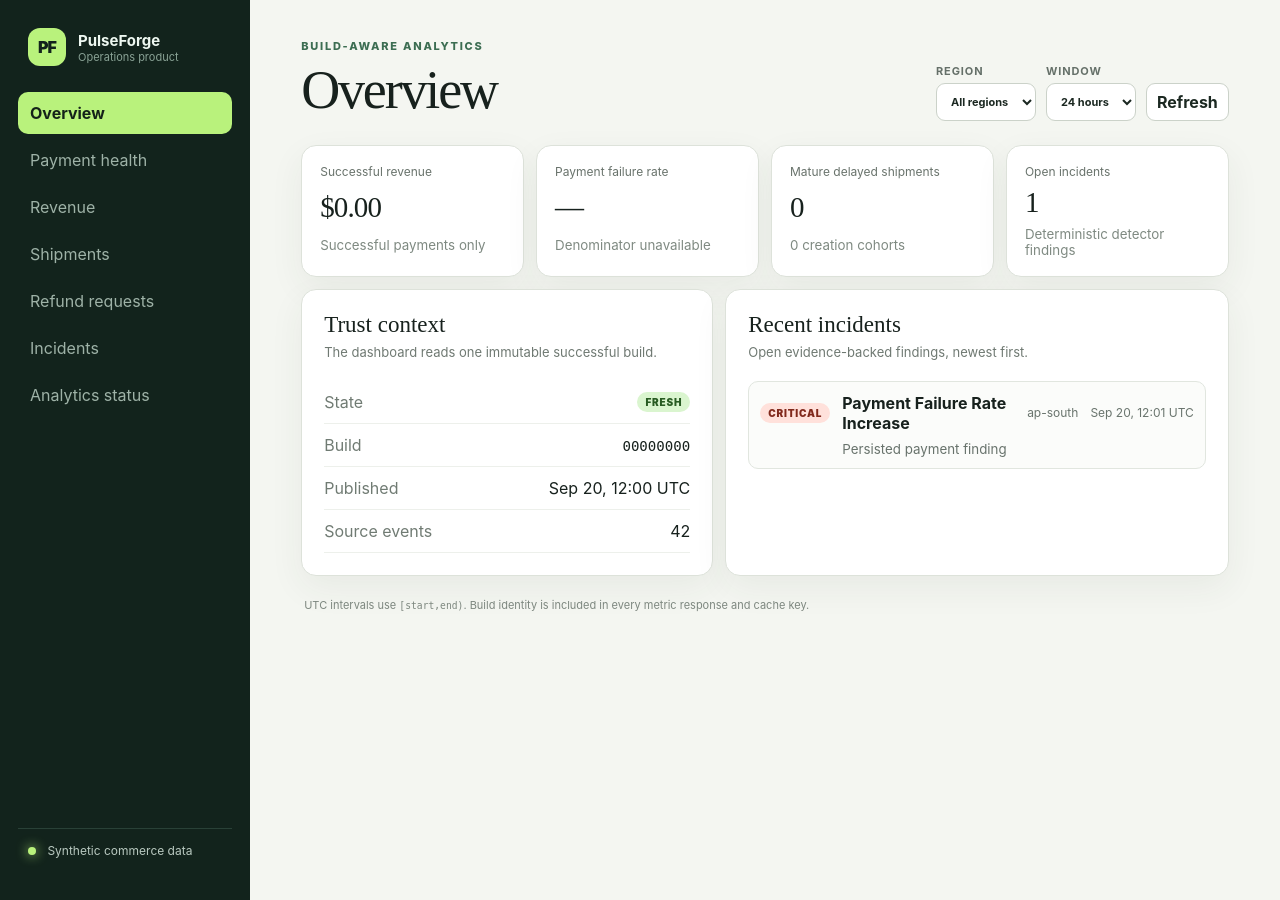
Test: operations dashboard › allows a pending explanation to be cancelled without showing an error
Click the button "payment failure rate increase". click: (795, 412)
box: [748,380,1206,468]
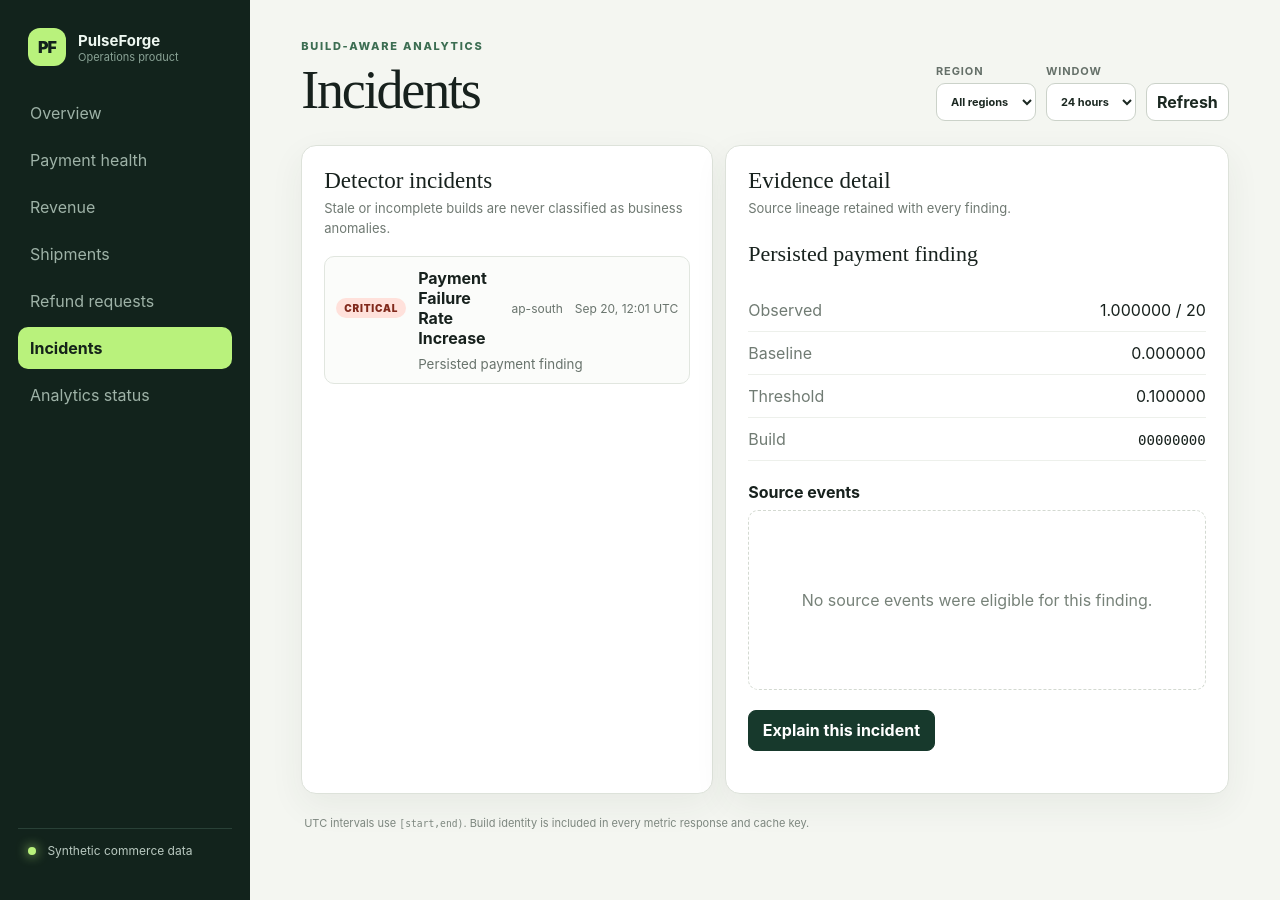
Click the button "Explain this incident". click: (841, 730)
box: [748,710,935,751]
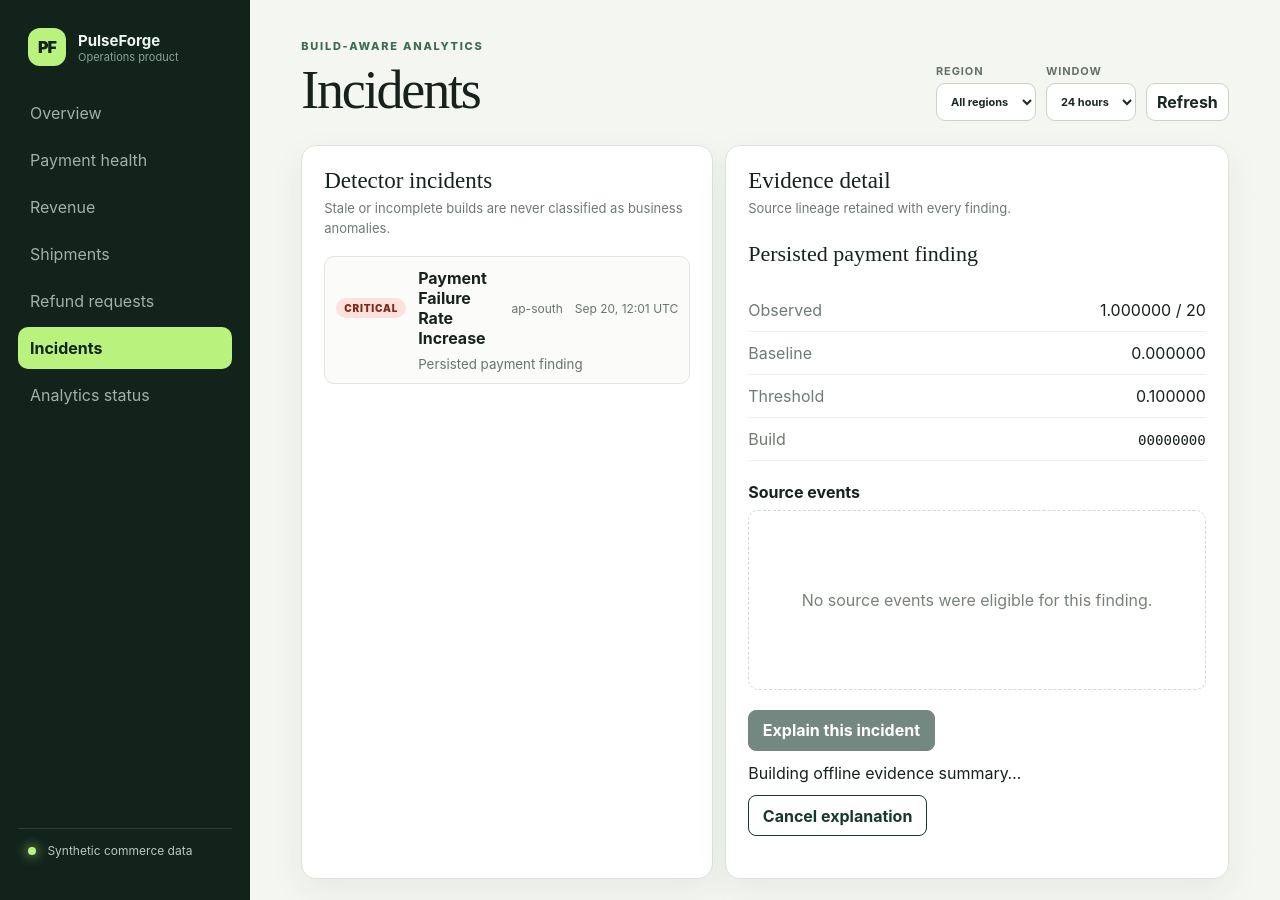
Result: the text "Building offline evidence summary…" is shown at [748,763,1021,783]
Click the button "Cancel explanation". click: (838, 816)
box: [748,795,927,836]
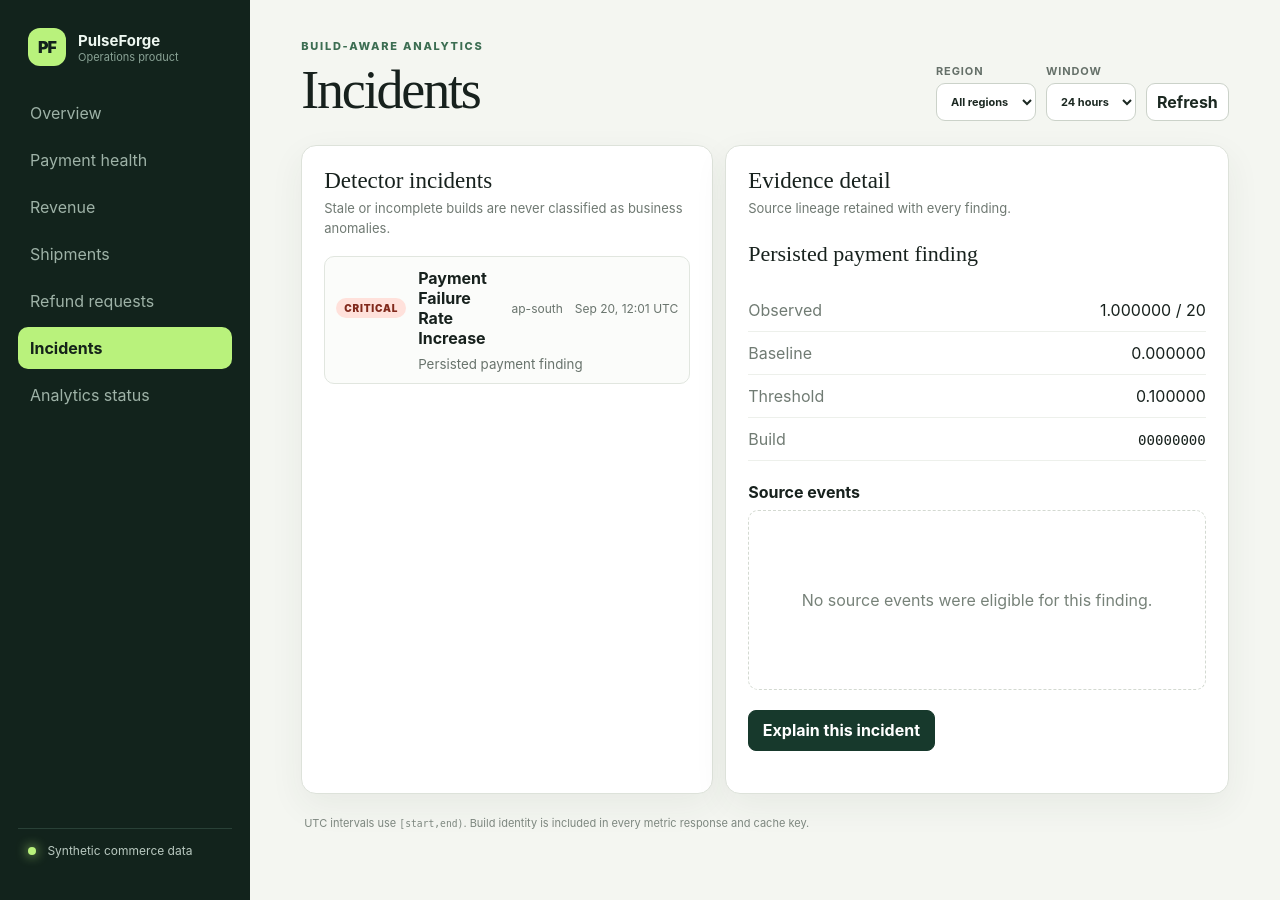
Result: the button "Explain this incident" is enabled at [748,710,935,751]
